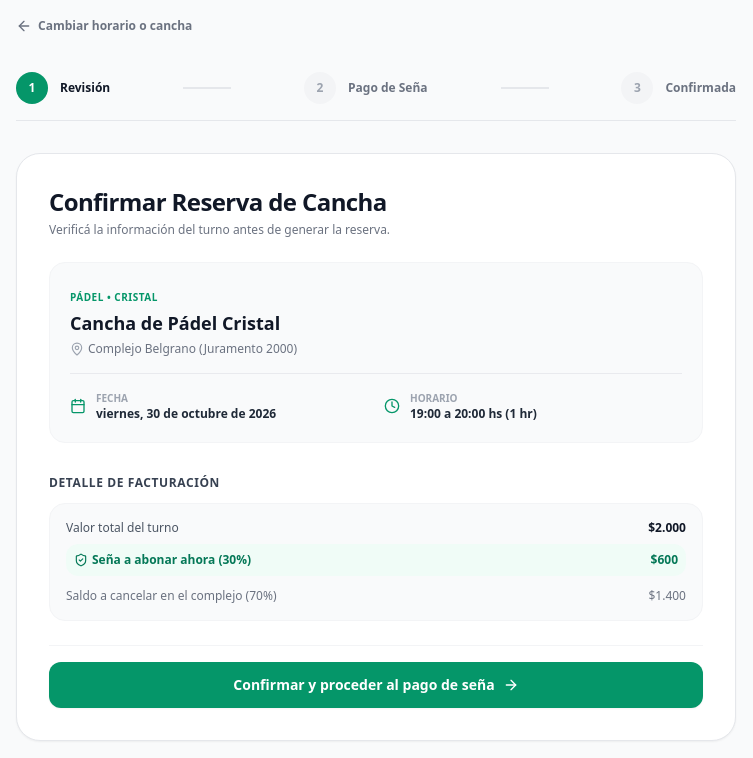
Test: NewReservationPage › permite confirmar la reserva y simular el pago de seña completo
// Paso 1: Confirmar
Click the button "Confirmar y proceder al pago de seña": (376, 685) [49,662,703,708]
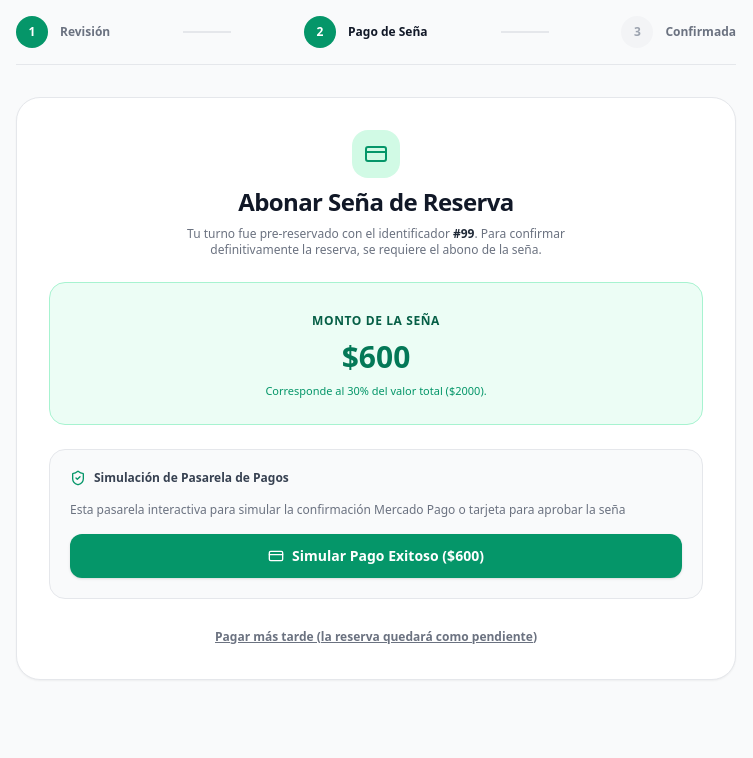
Result: the heading "Abonar Seña de Reserva" is shown at [238,185,514,218]
Result: the text "#99" is shown at [453,225,474,242]
Click the button "Simular Pago Exitoso ($600)": (376, 556) [70,534,682,578]
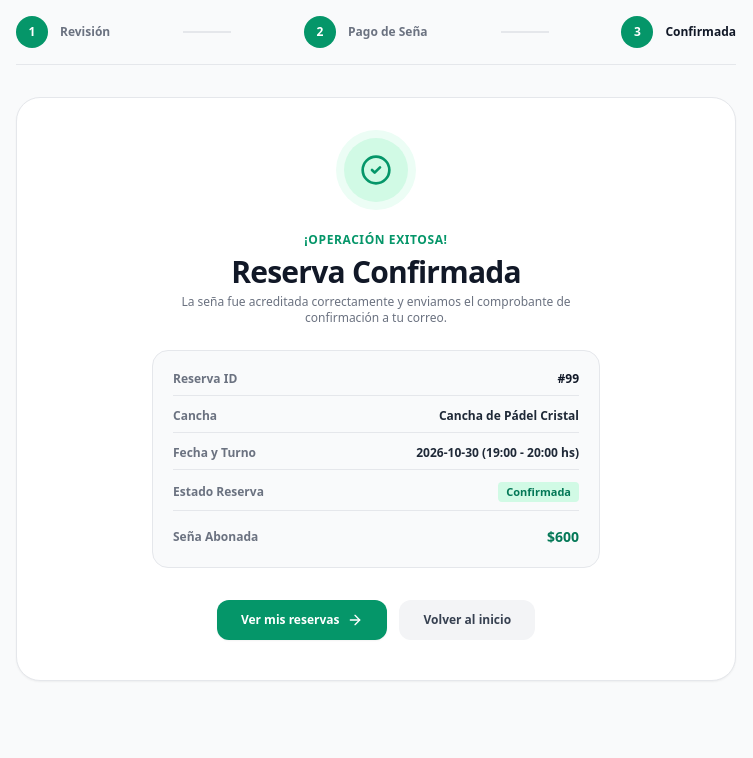
Result: the text "¡Operación Exitosa!" is shown at [304,231,448,248]
Result: the heading "Reserva Confirmada" is shown at [231,251,521,292]
